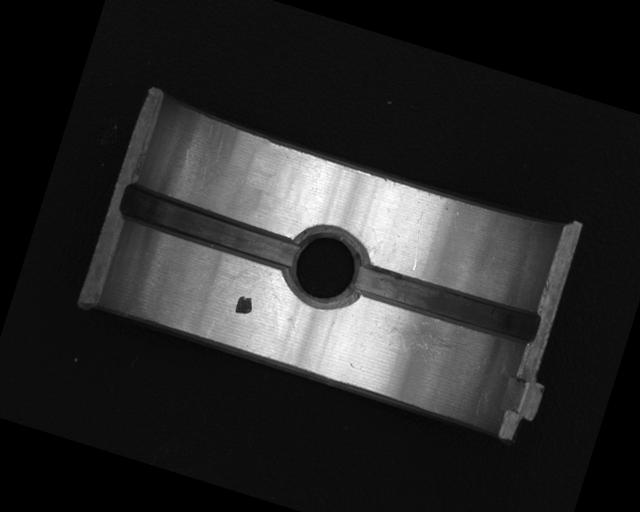blot: (233, 293, 255, 318)
gap: (348, 257, 544, 350), (115, 183, 299, 273)
hole: (276, 218, 372, 316)
nick: (402, 210, 434, 271)
scratch: (378, 306, 491, 376)
